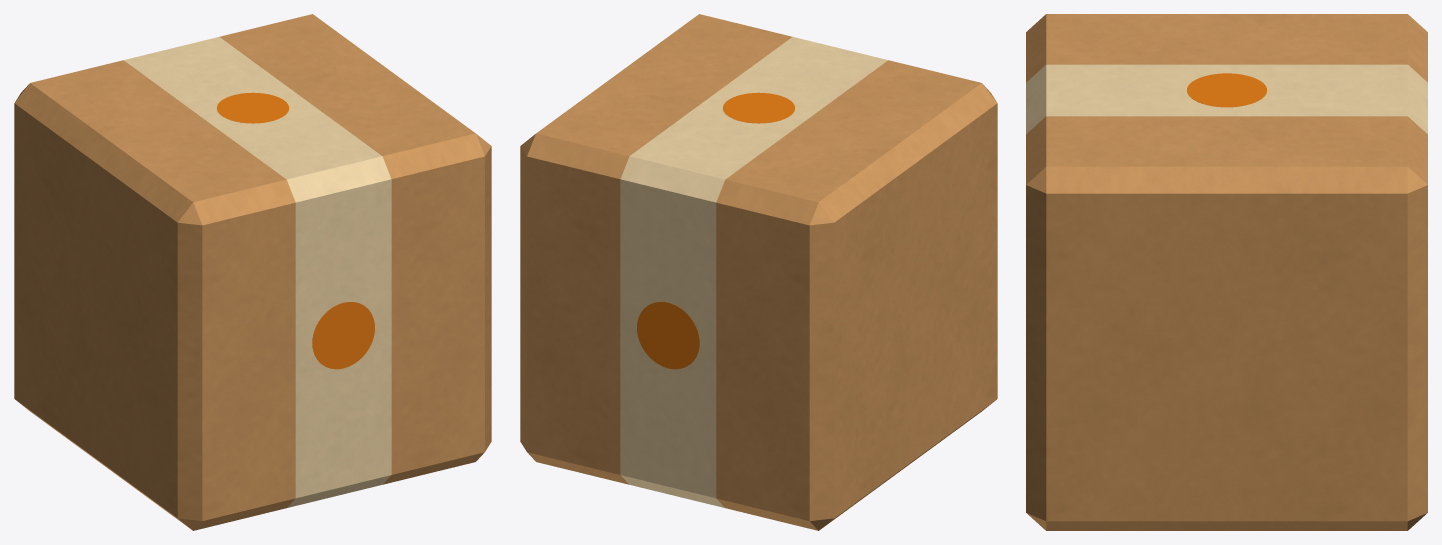
The model's file is parcel.glb.
3 renders of one model, left to right at view 1: azimuth 30°, elevation 25°; view 2: azimuth 150°, elevation 25°; view 3: azimuth 270°, elevation 25°, orthographic. The views are drawn at different scales.
Visible parts, largest first — view 1: parcel; view 2: parcel; view 3: parcel.
Part boxes in pixels (left/top/right/bottom): parcel: left=14, top=14, right=491, bottom=530; parcel: left=520, top=14, right=997, bottom=530; parcel: left=1026, top=14, right=1427, bottom=530.
Bounding box in the file's own units: 0.4 × 0.4001 × 0.4002.
3 materials, 2 textured.
